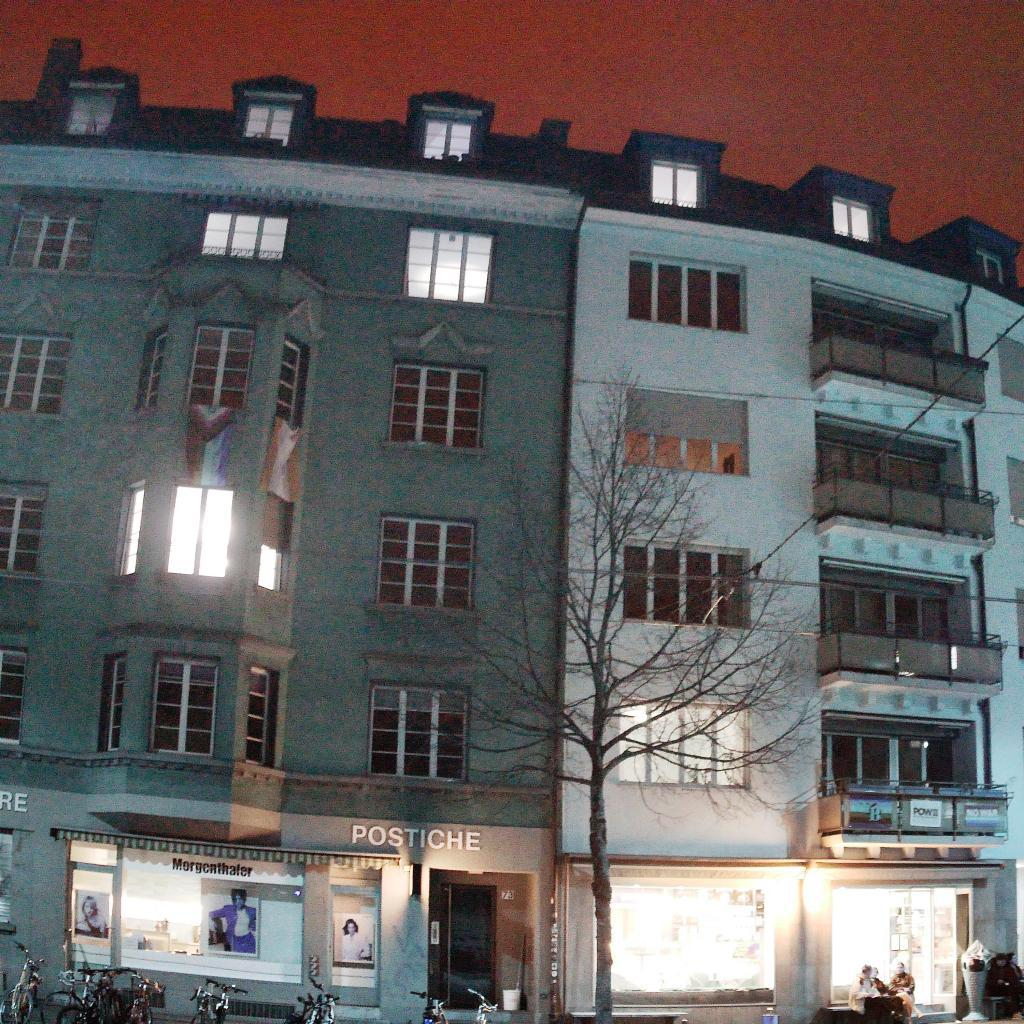balcony-fence: (811, 307, 988, 409), (811, 457, 995, 541), (786, 778, 1011, 840), (816, 612, 1003, 683)
facade: (1, 37, 1024, 855)
shop: (0, 782, 1024, 1024)
street: (0, 1000, 239, 1024)
vegetation: (362, 357, 833, 1024)
window: (622, 385, 749, 476), (619, 701, 745, 786), (366, 679, 470, 781), (621, 545, 747, 627), (629, 250, 747, 335), (375, 512, 477, 610), (814, 423, 946, 495), (386, 357, 488, 450), (810, 289, 939, 358), (819, 579, 950, 642), (146, 650, 221, 759), (402, 224, 493, 306), (821, 733, 954, 788), (0, 325, 72, 419), (184, 320, 257, 410), (167, 485, 233, 577), (7, 209, 99, 273), (200, 211, 287, 261), (0, 493, 45, 575), (135, 322, 169, 410), (61, 91, 118, 138), (0, 648, 27, 745), (242, 102, 294, 149), (246, 664, 270, 764), (423, 118, 473, 166), (650, 160, 700, 208), (119, 484, 144, 576), (275, 339, 301, 425), (995, 332, 1023, 402), (832, 195, 871, 244), (106, 657, 126, 751), (1006, 455, 1024, 528), (258, 544, 282, 592)
